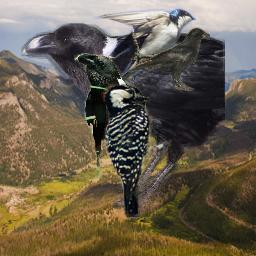Crow: (21, 22, 225, 221), (74, 53, 146, 183), (128, 27, 210, 91)
Swallow: (93, 7, 196, 86)
Woodpecker: (101, 81, 172, 218)
